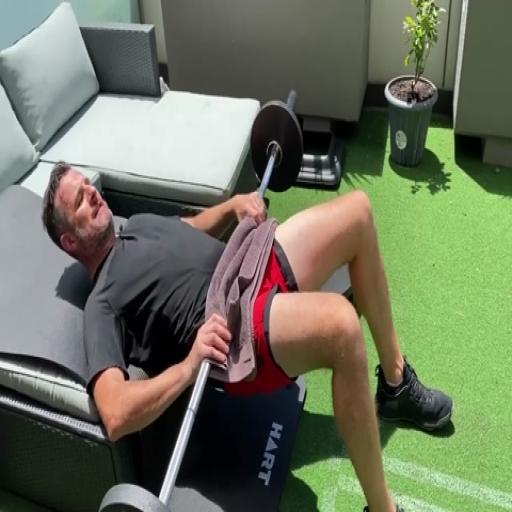exercise: (40, 158, 456, 510)
